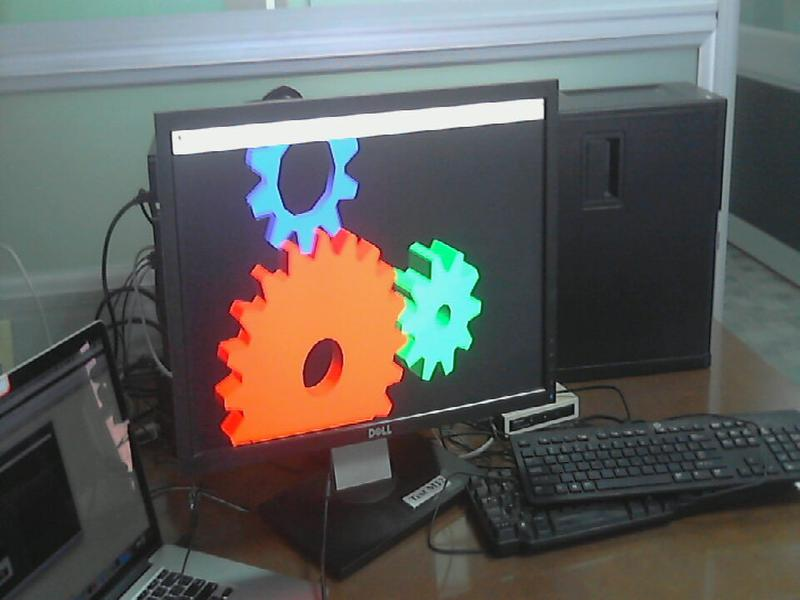glxgears_pass: (207, 137, 481, 448)
